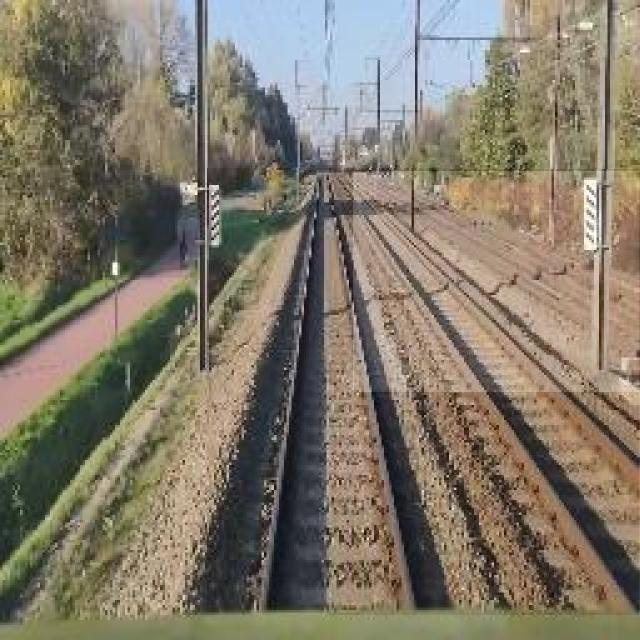rail: (331, 171, 640, 616), (209, 170, 451, 614), (355, 172, 640, 393)
